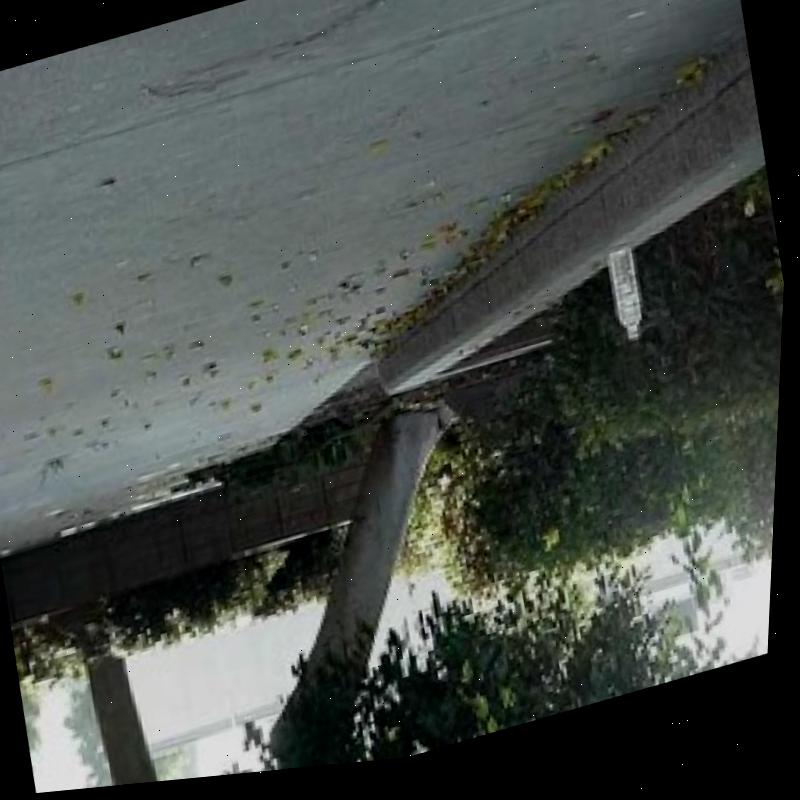botella: (604, 256, 650, 356)
